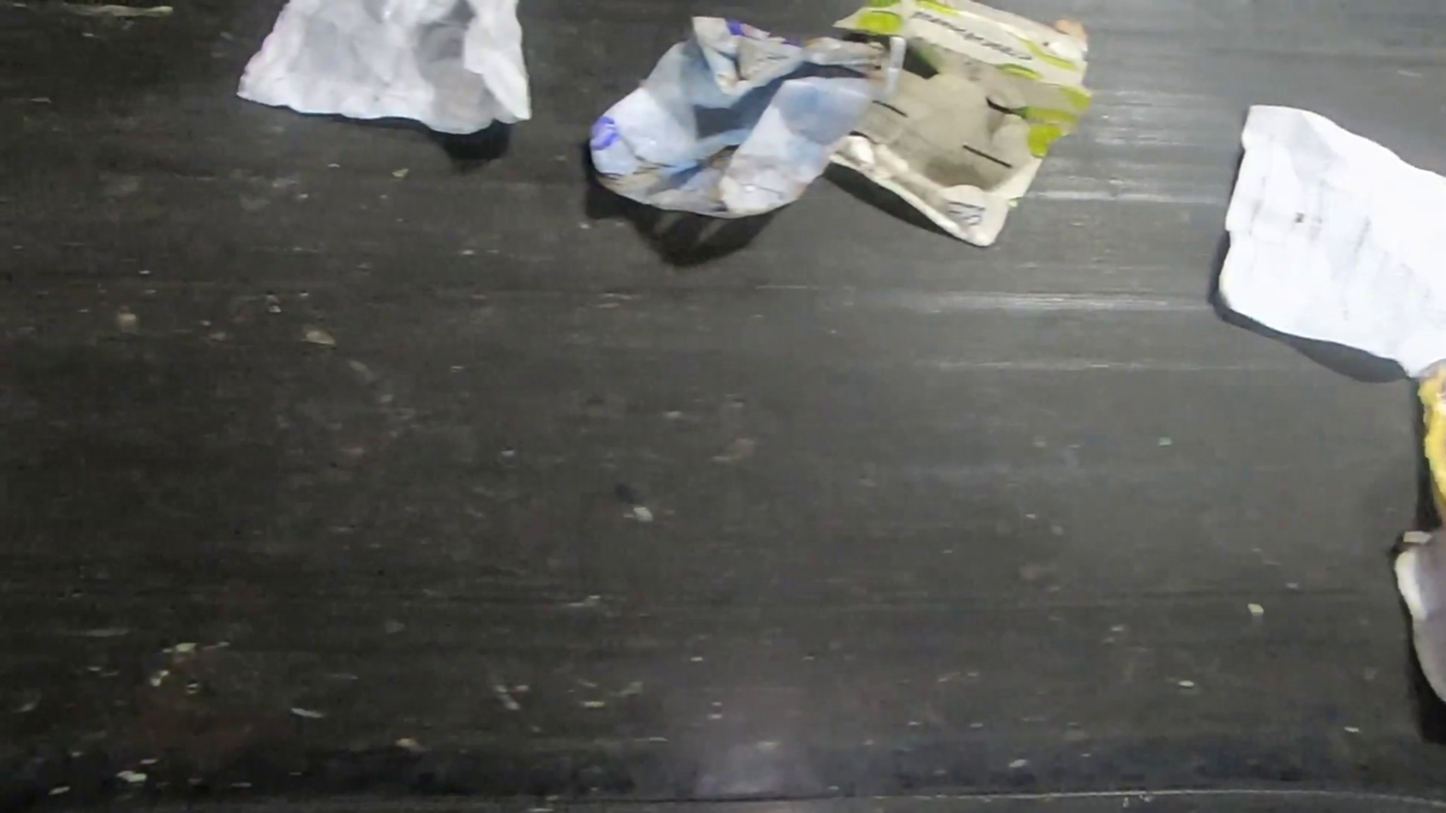cardboard: (825, 0, 1097, 249)
